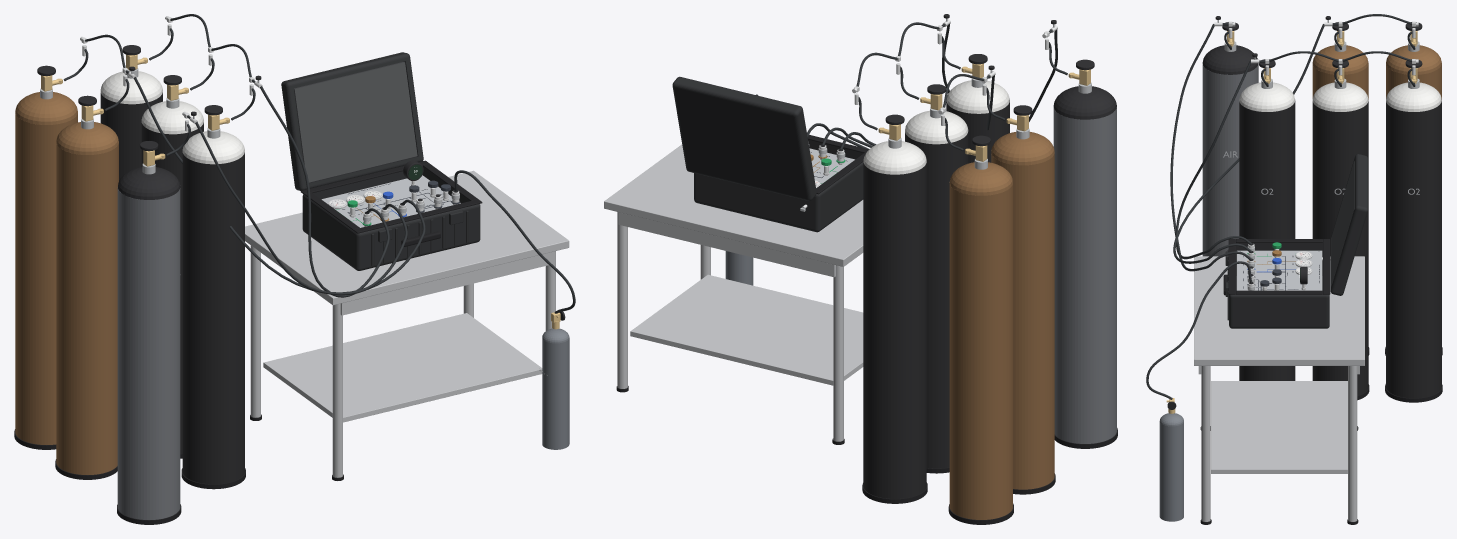
The model's file is panel.glb.
3 views of the same model, side by side, from view 1: azimuth 30°, elevation 25°; view 2: azimuth 150°, elevation 25°; view 3: azimuth 270°, elevation 25° (orthographic). The views are drawn at different scales.
Visible parts, largest first — view 1: PM-03_C1_body, PM-01_C3_body, PM-02_C2_body, Bench_shelf, PM-02_C1_body, Bench_top, LidFoam, CaseBody, Lid, FillCyl, Bench_apron_f, Plate (+16 smaller); view 2: PM-01_C1_body, PM-02_C1_body, PM-03_C1_body, Bench_shelf, PM-02_C2_body, Lid, Bench_top, PM-01_C2_body, CaseBody, Bench_apron_b, Bench_leg3, Bench_leg4 (+9 smaller); view 3: PM-01_C1_body, Bench_shelf, Bench_top, PM-01_C3_body, PM-01_C2_body, PM-03_C1_body, CaseBody, Plate, FillCyl, Lid, Bench_leg2, Bench_leg4 (+16 smaller).
Boxes of the visible parts, x1=… form: PM-03_C1_body: x1=117, y1=187, x2=180, y2=519; PM-01_C3_body: x1=182, y1=152, x2=244, y2=484; PM-02_C2_body: x1=56, y1=141, x2=118, y2=474; Bench_shelf: x1=263, y1=313, x2=542, y2=422; PM-02_C1_body: x1=15, y1=111, x2=77, y2=444; Bench_top: x1=245, y1=170, x2=569, y2=305; LidFoam: x1=294, y1=62, x2=417, y2=182; CaseBody: x1=302, y1=166, x2=480, y2=270; Lid: x1=281, y1=52, x2=423, y2=190; FillCyl: x1=542, y1=337, x2=569, y2=449; Bench_apron_f: x1=340, y1=251, x2=554, y2=315; Plate: x1=321, y1=175, x2=460, y2=227; PM-01_C1_body: x1=863, y1=160, x2=926, y2=498; PM-02_C1_body: x1=949, y1=182, x2=1012, y2=519; PM-03_C1_body: x1=1053, y1=107, x2=1116, y2=443; Bench_shelf: x1=630, y1=274, x2=863, y2=385; PM-02_C2_body: x1=991, y1=150, x2=1054, y2=489; Lid: x1=672, y1=76, x2=816, y2=200; Bench_top: x1=604, y1=144, x2=863, y2=266; PM-01_C2_body: x1=905, y1=132, x2=968, y2=468; CaseBody: x1=694, y1=139, x2=863, y2=232; Bench_apron_b: x1=618, y1=212, x2=835, y2=277; Bench_leg3: x1=833, y1=265, x2=843, y2=441; Bench_leg4: x1=617, y1=212, x2=627, y2=388; PM-01_C1_body: x1=1386, y1=101, x2=1441, y2=398; Bench_shelf: x1=1211, y1=381, x2=1347, y2=473; Bench_top: x1=1194, y1=256, x2=1364, y2=365; PM-01_C3_body: x1=1239, y1=101, x2=1295, y2=380; PM-01_C2_body: x1=1312, y1=101, x2=1368, y2=395; PM-03_C1_body: x1=1202, y1=63, x2=1258, y2=256; CaseBody: x1=1229, y1=243, x2=1329, y2=328; Plate: x1=1236, y1=250, x2=1322, y2=290; FillCyl: x1=1159, y1=422, x2=1183, y2=521; Lid: x1=1330, y1=154, x2=1367, y2=295; Bench_leg2: x1=1201, y1=366, x2=1210, y2=521; Bench_leg4: x1=1348, y1=366, x2=1357, y2=521.
Bounding box in the file's own units: 1.81 × 1.62 × 1.21.
